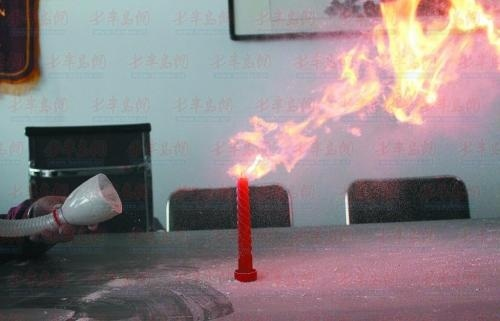fire: (227, 0, 497, 175)
